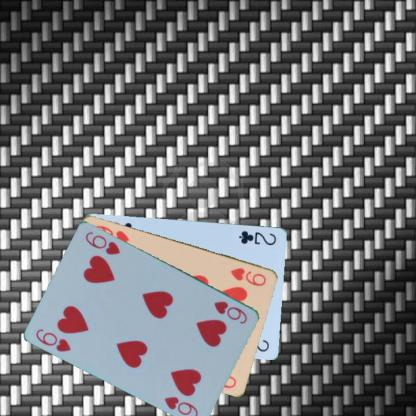2c: (236, 228, 278, 246)
6h: (33, 326, 72, 353), (211, 298, 249, 325)
9h: (228, 265, 268, 287)
